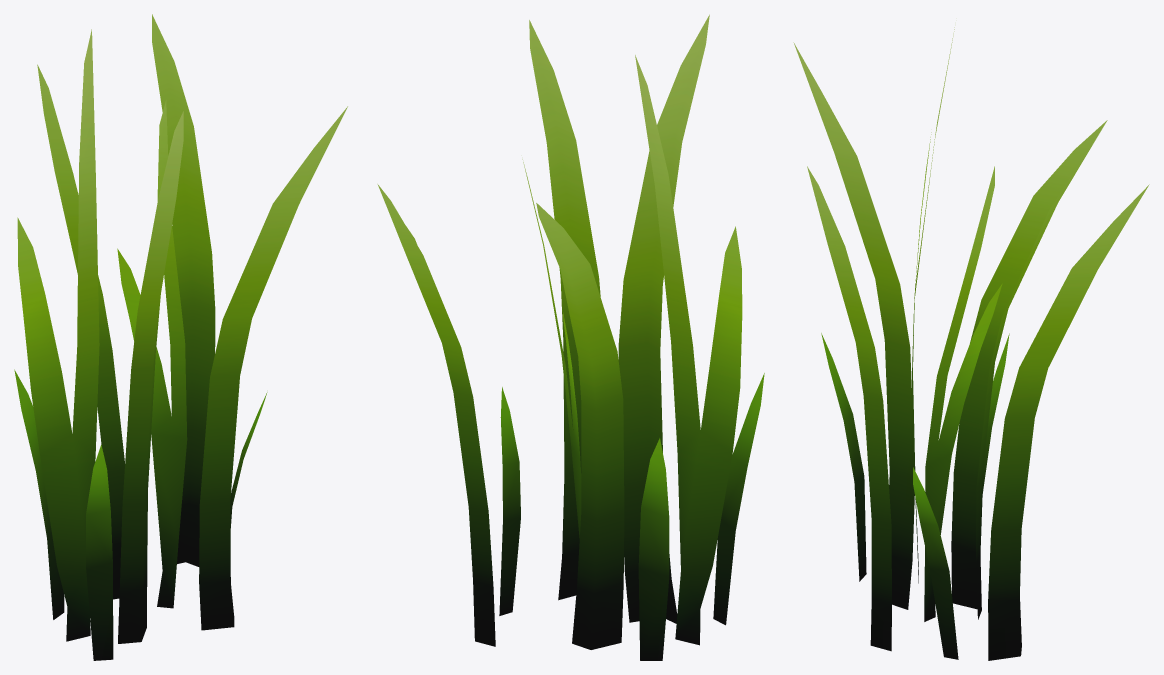
Rendered from Grass_Common_Short.gltf.
The picture shows the model from 3 angles, left to right: view 1: azimuth 30°, elevation 25°; view 2: azimuth 150°, elevation 25°; view 3: azimuth 270°, elevation 25°; orthographic projection. The views are drawn at different scales.
Visible parts, largest first — view 1: Grass_Common_Short; view 2: Grass_Common_Short; view 3: Grass_Common_Short.
Boxes of the visible parts, <box> form: Grass_Common_Short: <box>14,14,347,660</box>; Grass_Common_Short: <box>377,14,764,660</box>; Grass_Common_Short: <box>793,27,1149,660</box>.
Size of the model in its own units: 0.6389 by 1.33 by 0.7373.
Materials: 1 (1 with a texture image).
